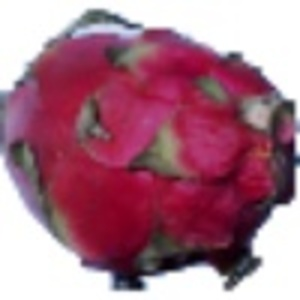pitaia: (1, 9, 300, 294)
